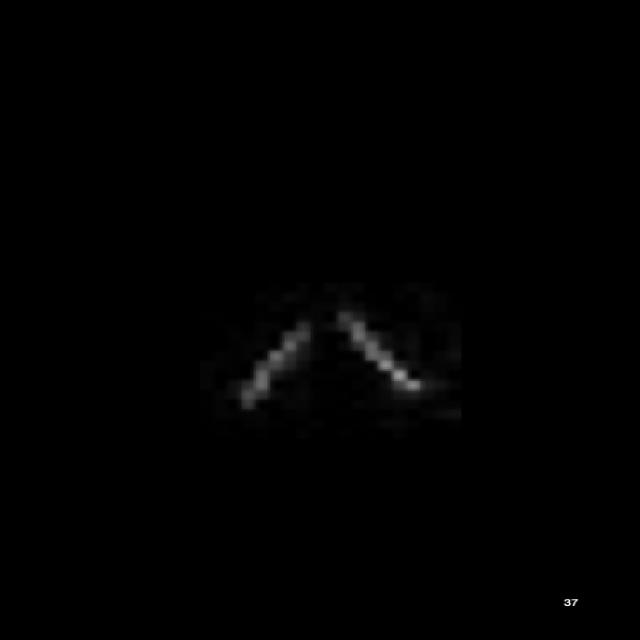8 -eight-: (229, 304, 436, 411)
